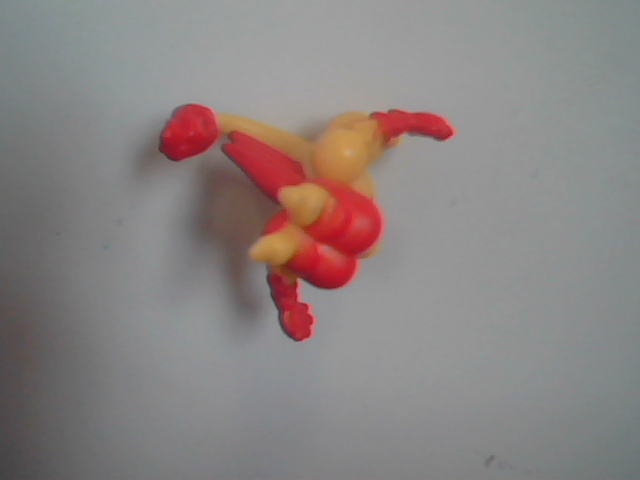magmar: (122, 42, 495, 410)
